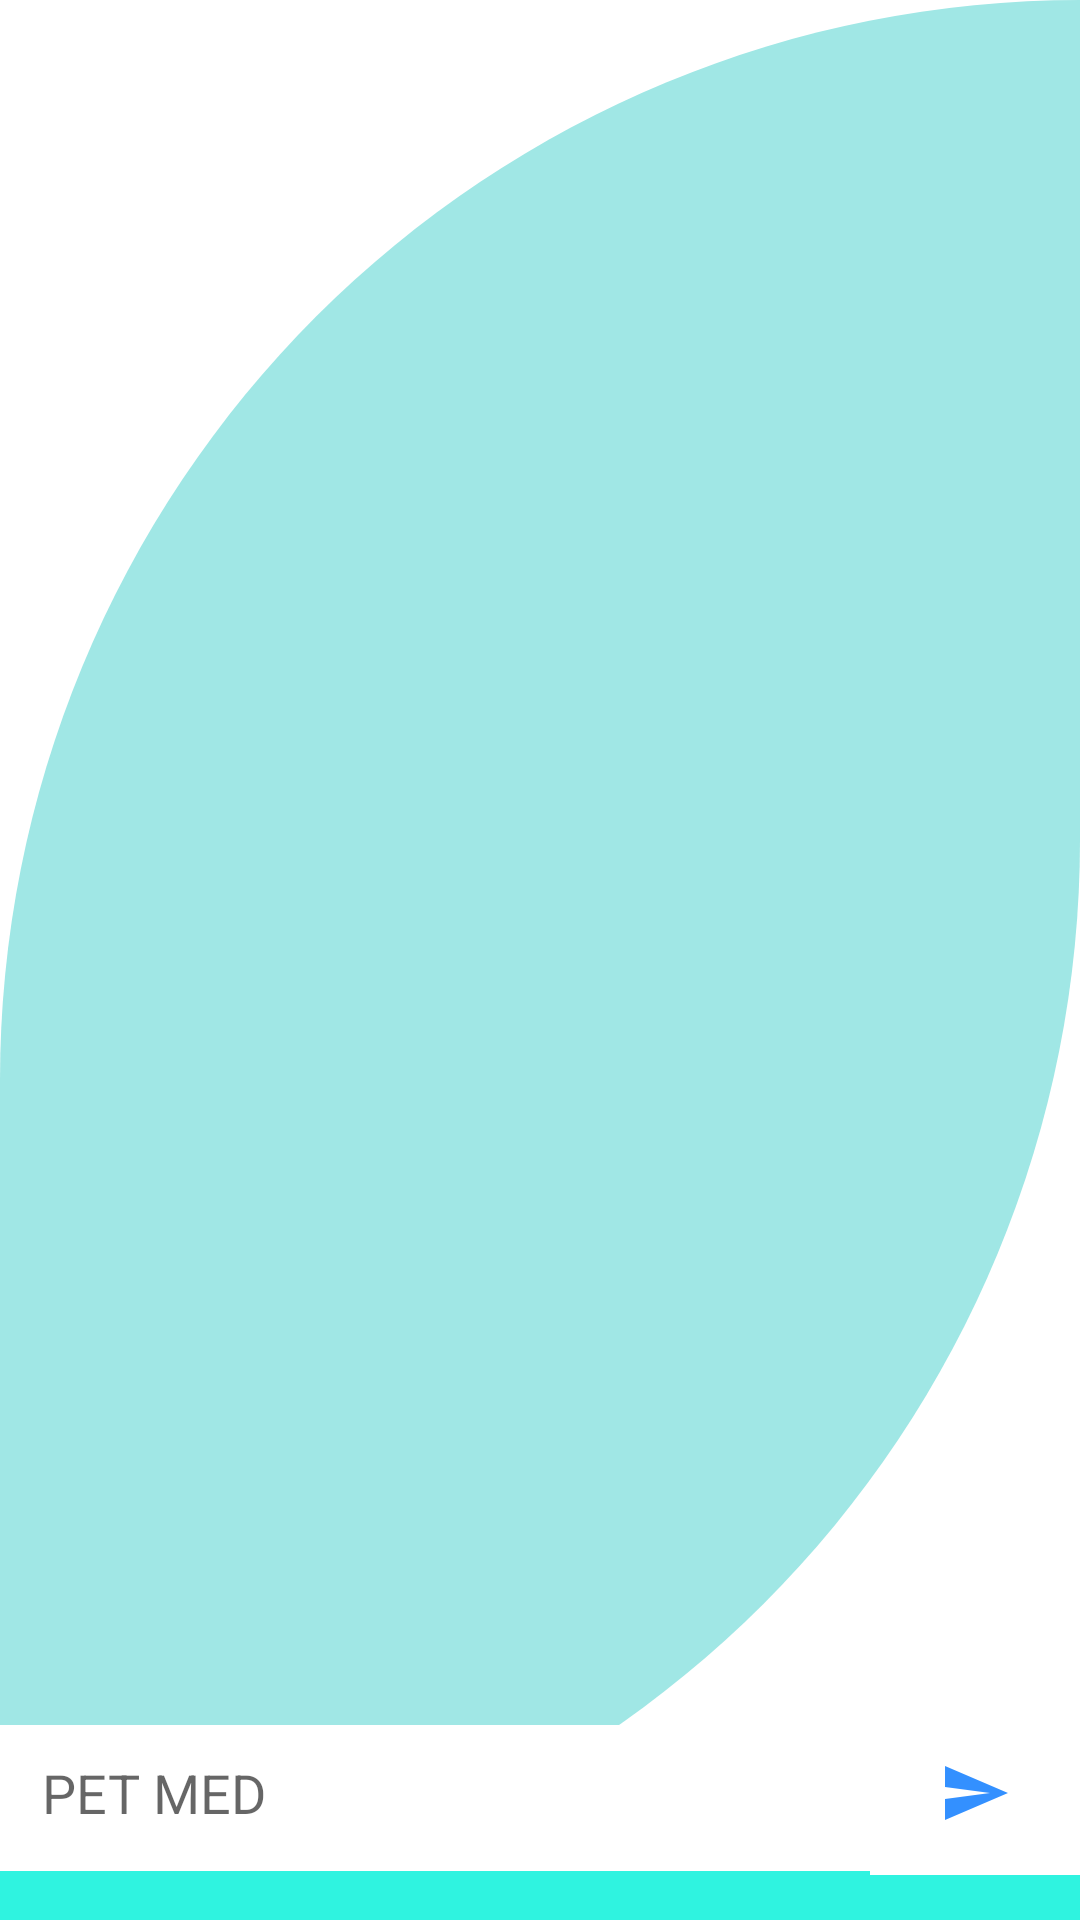

Icons on this 1080×1920 Android screen, each with the point to tap as [x,y]:
send: [976,1793]
